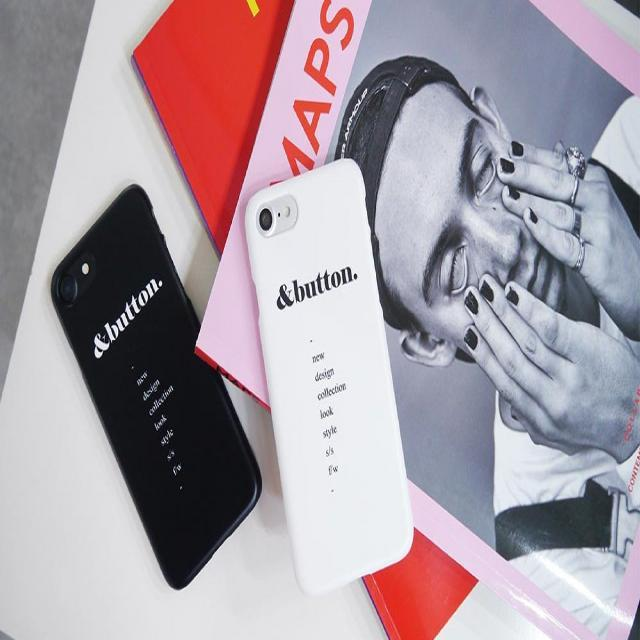phone: (245, 157, 415, 596)
